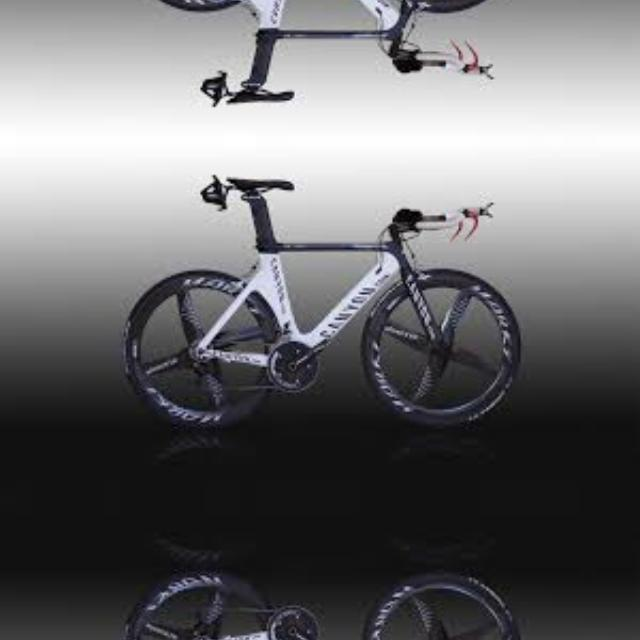obstacle: (126, 150, 542, 430), (126, 0, 542, 130), (126, 567, 542, 640)
